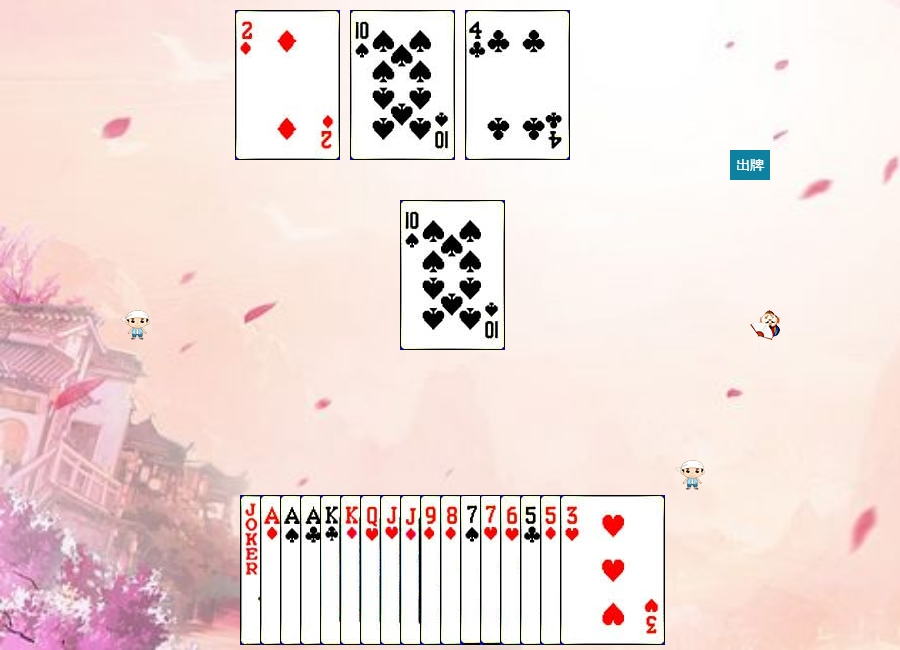10~4: (350, 10, 455, 160), (400, 200, 505, 350)
11~1: (400, 495, 505, 645)
11~3: (380, 495, 485, 645)
12~3: (360, 495, 465, 645)
13~1: (340, 495, 445, 645)
13~2: (320, 495, 425, 645)
14~1: (260, 495, 365, 645)
14~2: (300, 495, 405, 645)
14~4: (280, 495, 385, 645)
15~1: (235, 10, 340, 160)
18~4: (240, 495, 345, 645)
3~3: (560, 495, 665, 645)
4~2: (465, 10, 570, 160)
5~1: (540, 495, 645, 645)
5~2: (520, 495, 625, 645)
6~3: (500, 495, 605, 645)
7~3: (480, 495, 585, 645)
7~4: (460, 495, 565, 645)
8~1: (440, 495, 545, 645)
9~1: (420, 495, 525, 645)
